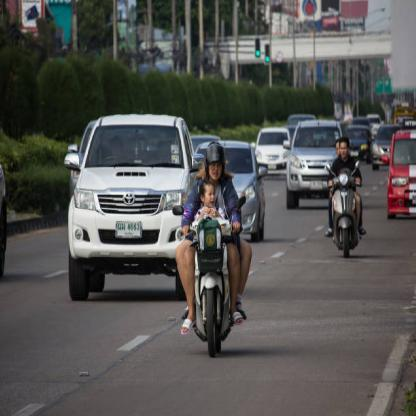Motorcycle: (178, 204, 233, 362), (319, 166, 368, 253)
